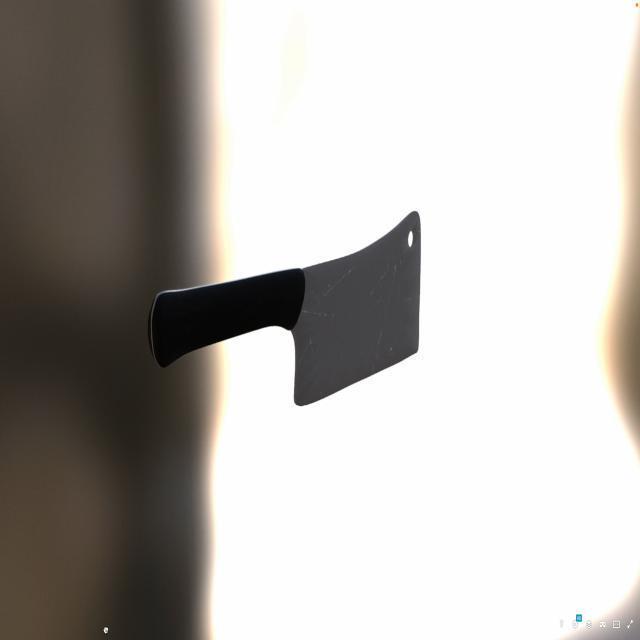cleaver: (145, 212, 427, 406)
